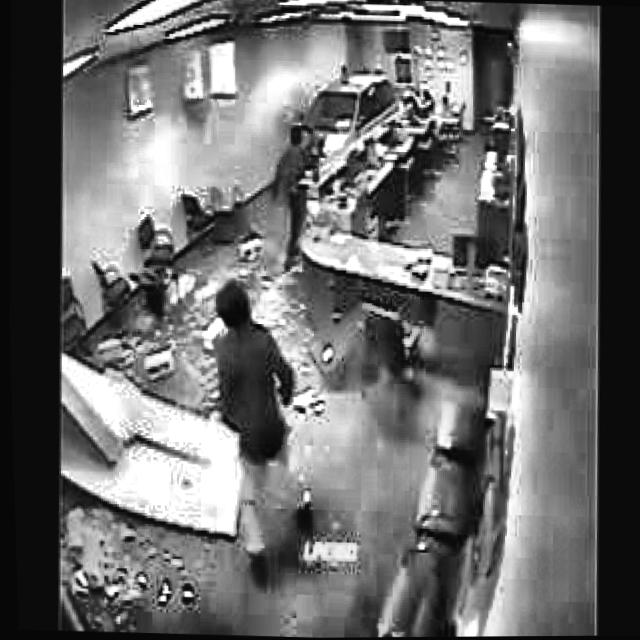burglary: (192, 278, 326, 588), (257, 59, 415, 279)
